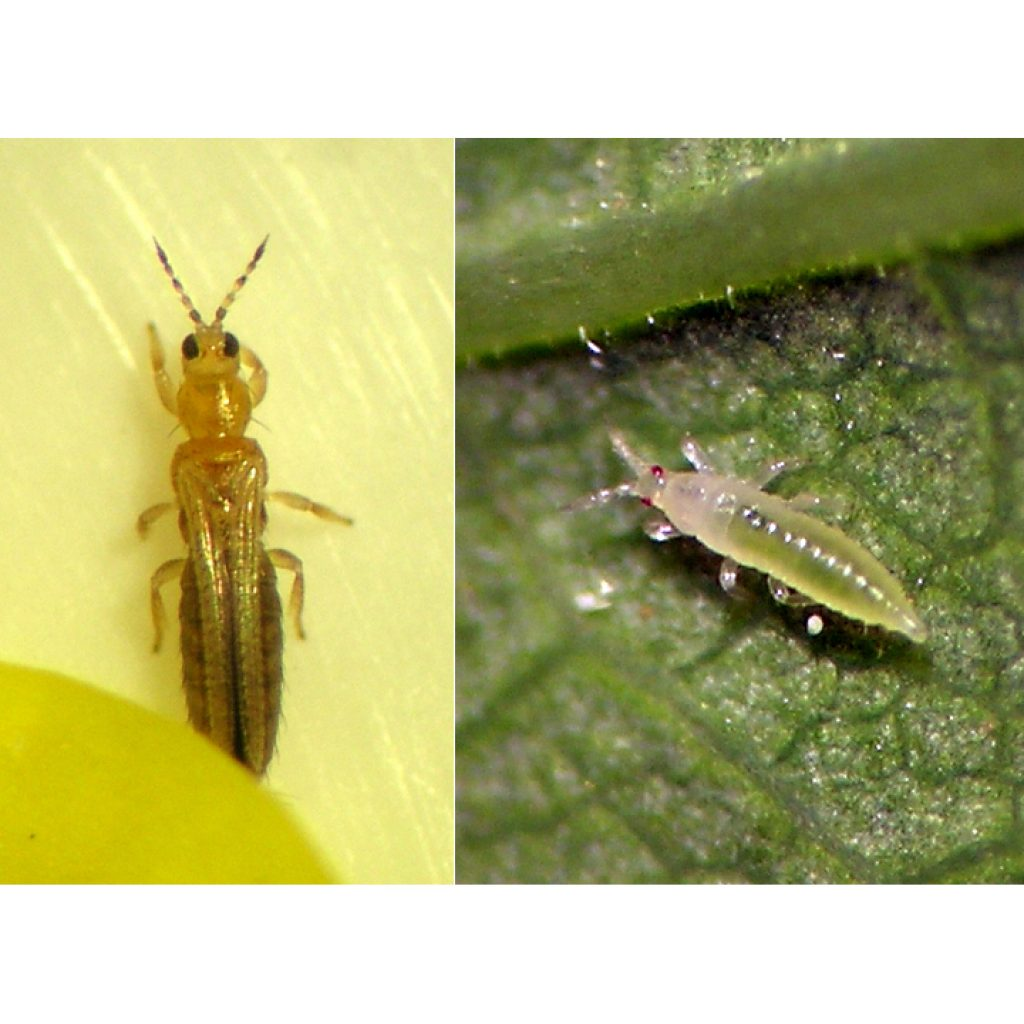Thripidae: (124, 238, 356, 796)
